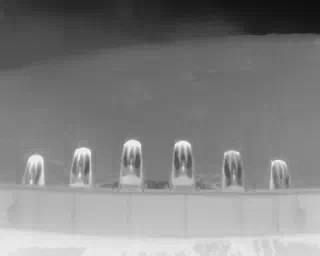claw: (119, 138, 144, 190), (171, 140, 195, 189), (69, 146, 93, 189), (222, 150, 243, 191), (269, 158, 294, 191), (23, 155, 45, 187)
